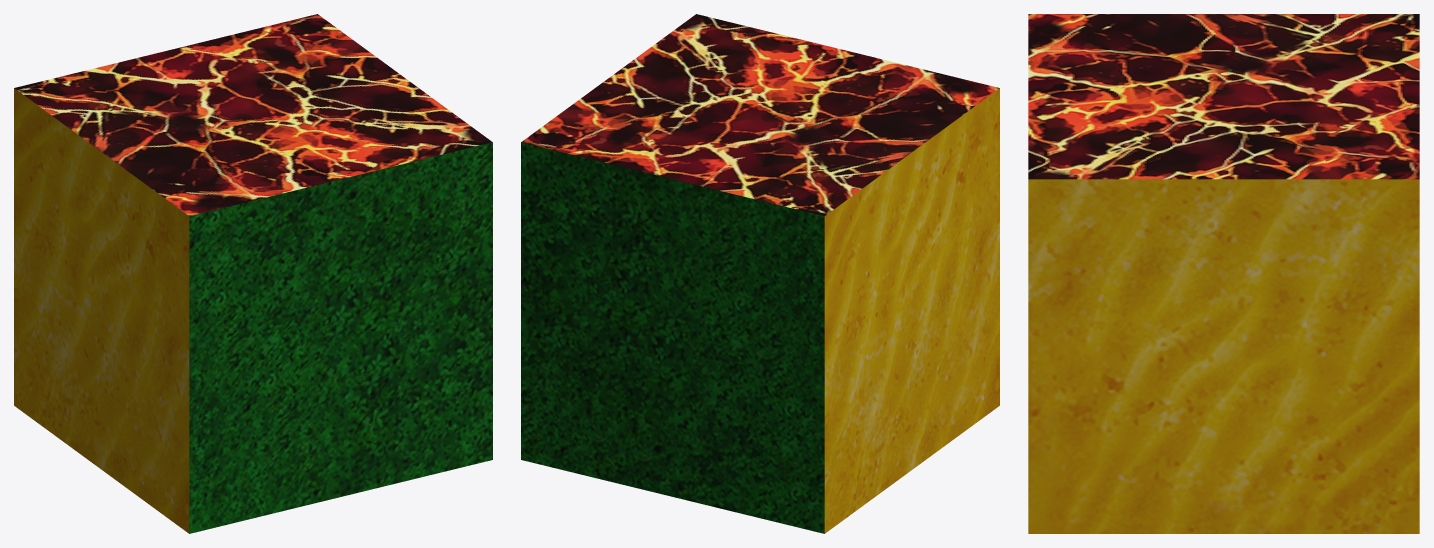
File: BaseTextured.fbx
3 renders of one model, left to right at view 1: azimuth 30°, elevation 25°; view 2: azimuth 150°, elevation 25°; view 3: azimuth 270°, elevation 25°, orthographic. The views are drawn at different scales.
Visible parts, largest first — view 1: Base; view 2: Base; view 3: Base.
Boxes of the visible parts, <box> form: Base: <box>14,14,492,533</box>; Base: <box>521,14,999,533</box>; Base: <box>1028,14,1419,533</box>.
Size of the model in its own units: 60 by 60 by 60.
1 material, 1 textured.
